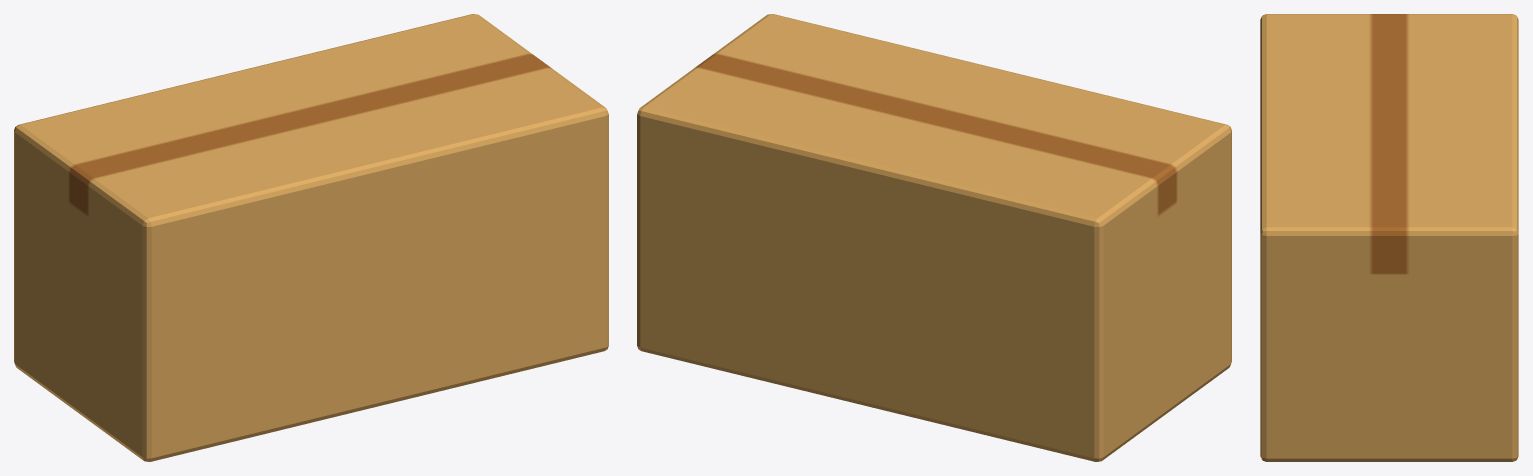
File: X2BoxCardboard.fbx
3 views of the same model, side by side, from view 1: azimuth 30°, elevation 25°; view 2: azimuth 150°, elevation 25°; view 3: azimuth 270°, elevation 25° (orthographic). The views are drawn at different scales.
Visible parts, largest first — view 1: y2dan; view 2: y2dan; view 3: y2dan.
Part boxes in pixels (x1,y1,x2,y2): y2dan: [14, 14, 608, 461]; y2dan: [637, 14, 1231, 461]; y2dan: [1260, 14, 1518, 461].
Bounding box in the file's own units: 2 × 1 × 1.
1 material, 1 textured.
